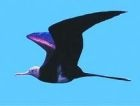bird: (17, 9, 128, 83)
